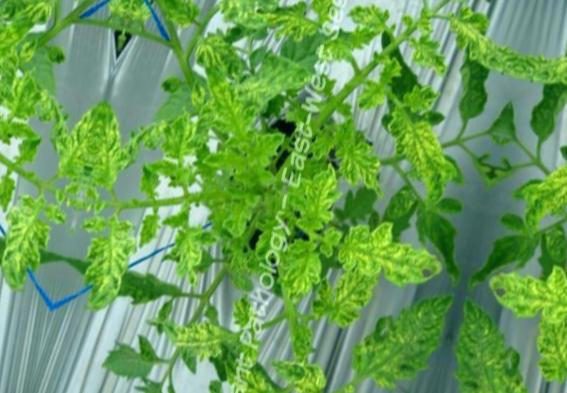Tomato leaf yellow virus: (340, 276, 460, 393), (183, 63, 290, 181), (378, 101, 474, 221), (63, 207, 151, 317), (331, 219, 448, 296), (83, 82, 149, 201), (434, 6, 531, 86), (307, 111, 396, 194), (169, 305, 248, 376), (226, 48, 305, 114), (316, 261, 382, 338), (218, 0, 358, 32), (274, 234, 330, 304), (292, 161, 347, 230), (164, 223, 217, 287), (264, 351, 333, 393), (345, 0, 401, 44), (365, 0, 444, 18), (160, 0, 227, 15), (157, 382, 243, 393)
